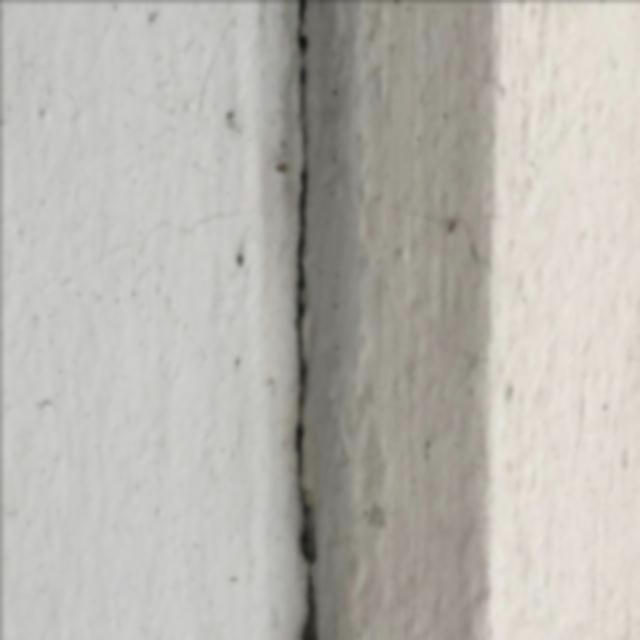SurfaceCrack: (239, 0, 376, 640)
